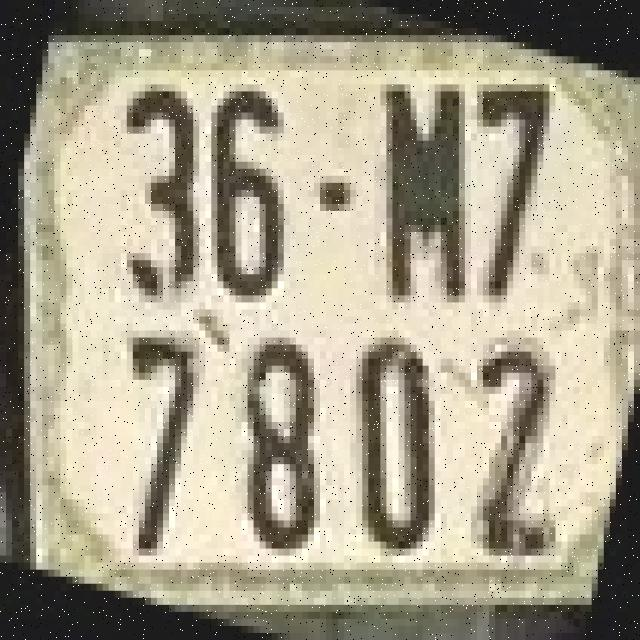0: (356, 334, 441, 552)
2: (471, 341, 567, 552)
3: (121, 81, 199, 299)
6: (208, 84, 287, 296)
7: (121, 330, 205, 556), (474, 78, 552, 302)
8: (239, 334, 323, 552)
M: (377, 78, 468, 302)
